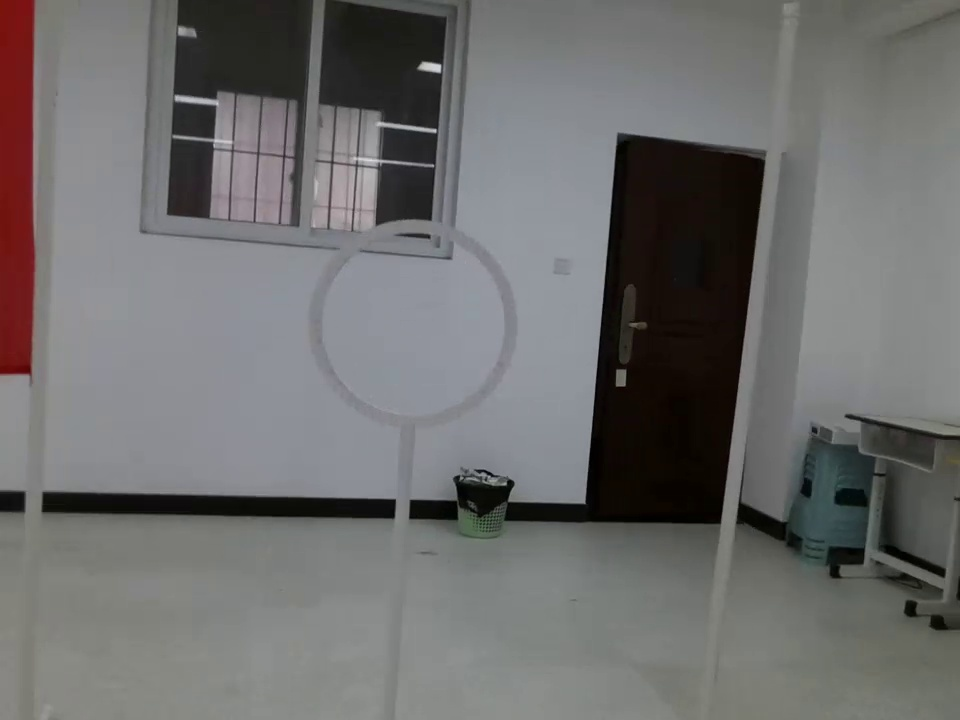qi: (1, 2, 56, 454)
quan: (299, 211, 522, 466)
